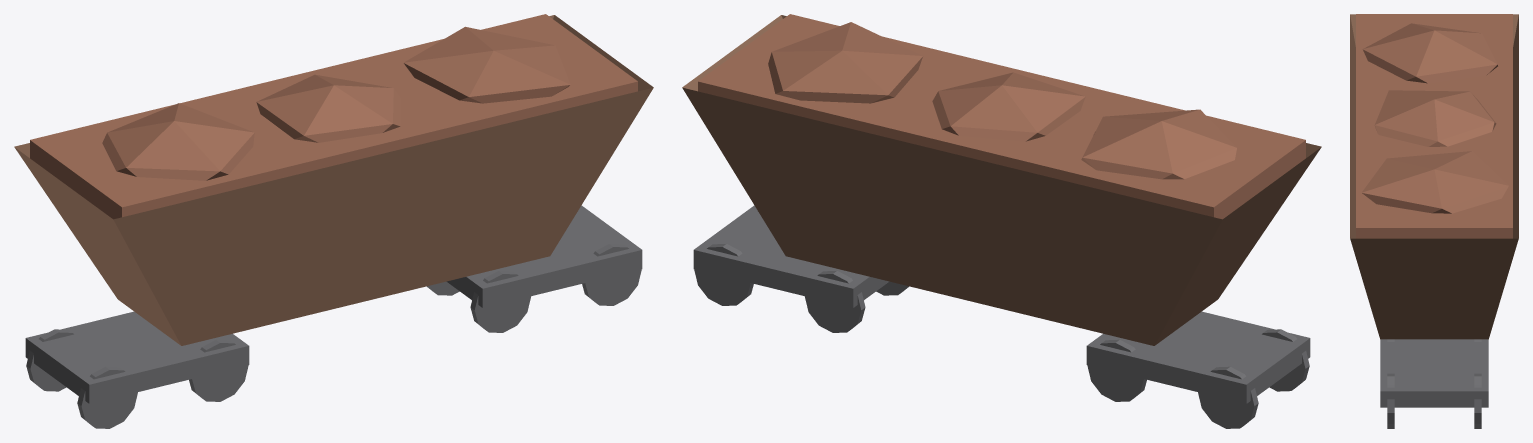
The model's file is HopperWagon.glb.
The picture shows the model from 3 angles, left to right: view 1: azimuth 30°, elevation 25°; view 2: azimuth 150°, elevation 25°; view 3: azimuth 270°, elevation 25°; orthographic projection. The views are drawn at different scales.
Parts seen in each view (by area): view 1: Hopper, Load, Bogie frame.004, Heap.002, Heap, Bogie frame.005, Heap.001, Wheel.016, Wheel.020, Wheel.017, Wheel.021, Wheel.018; view 2: Hopper, Load, Bogie frame.004, Heap.002, Heap, Heap.001, Bogie frame.005, Wheel.018, Wheel.022, Wheel.019, Wheel.023, Wheel.016; view 3: Load, Hopper, Bogie frame.005, Heap.002, Heap, Heap.001, Wheel.021, Wheel.023.
Part boxes in pixels (<box>): Hopper: <box>14,15,653,345</box>; Load: <box>30,14,637,219</box>; Bogie frame.004: <box>25,311,249,403</box>; Heap.002: <box>403,26,570,103</box>; Heap: <box>102,103,254,180</box>; Bogie frame.005: <box>446,205,642,307</box>; Heap.001: <box>256,74,400,142</box>; Wheel.016: <box>77,366,137,428</box>; Wheel.020: <box>470,271,530,332</box>; Wheel.017: <box>189,339,248,401</box>; Wheel.021: <box>582,244,641,305</box>; Wheel.018: <box>26,329,73,391</box>; Hopper: <box>682,15,1321,345</box>; Load: <box>698,14,1305,219</box>; Bogie frame.004: <box>1086,311,1310,403</box>; Heap.002: <box>768,22,922,103</box>; Heap: <box>1081,109,1236,179</box>; Heap.001: <box>932,72,1085,141</box>; Bogie frame.005: <box>693,205,889,307</box>; Wheel.018: <box>1198,366,1258,428</box>; Wheel.022: <box>805,271,865,332</box>; Wheel.019: <box>1087,339,1146,401</box>; Wheel.023: <box>694,244,753,305</box>; Wheel.016: <box>1262,329,1309,391</box>; Load: <box>1356,14,1512,238</box>; Hopper: <box>1350,14,1518,339</box>; Bogie frame.005: <box>1380,339,1488,407</box>; Heap.002: <box>1361,151,1508,213</box>; Heap: <box>1362,23,1497,83</box>; Heap.001: <box>1374,90,1496,146</box>; Wheel.021: <box>1387,373,1394,428</box>; Wheel.023: <box>1474,373,1481,428</box>.
Size of the model in its own units: 9.12 by 4.13 by 2.8.
